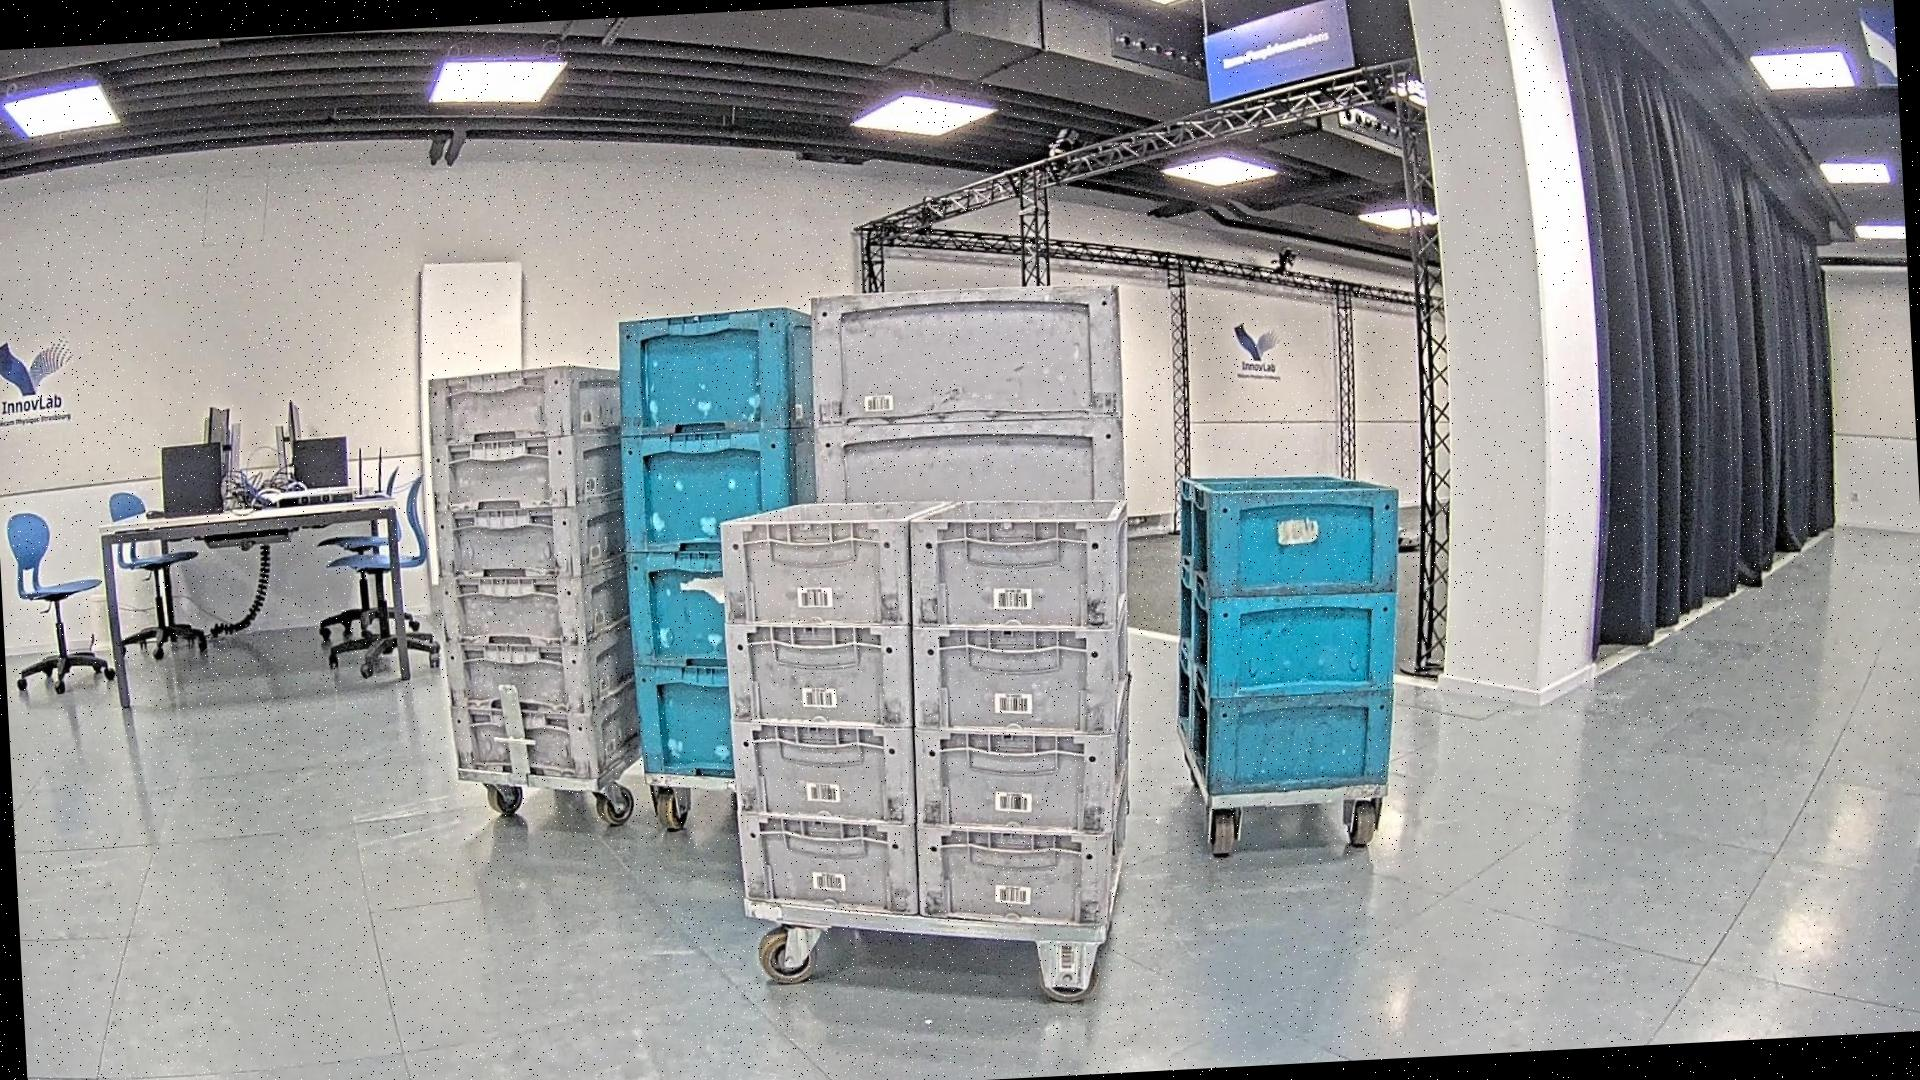Box3G: (425, 360, 646, 791)
Box4G: (802, 276, 1147, 779)
Box8G: (715, 483, 1151, 949)
BoxB4: (612, 302, 840, 789)
BoxB8: (1158, 462, 1418, 800)
